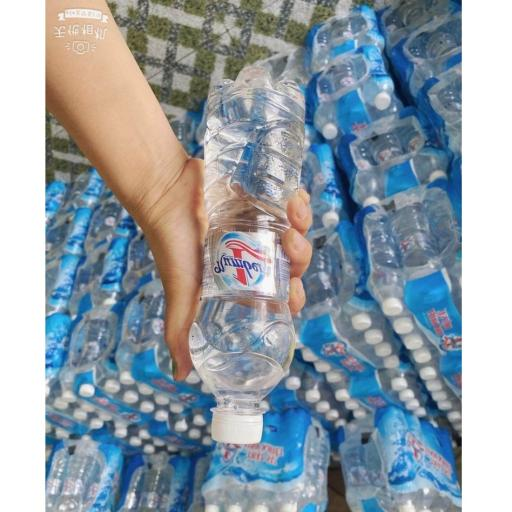bottle: (189, 65, 305, 444)
